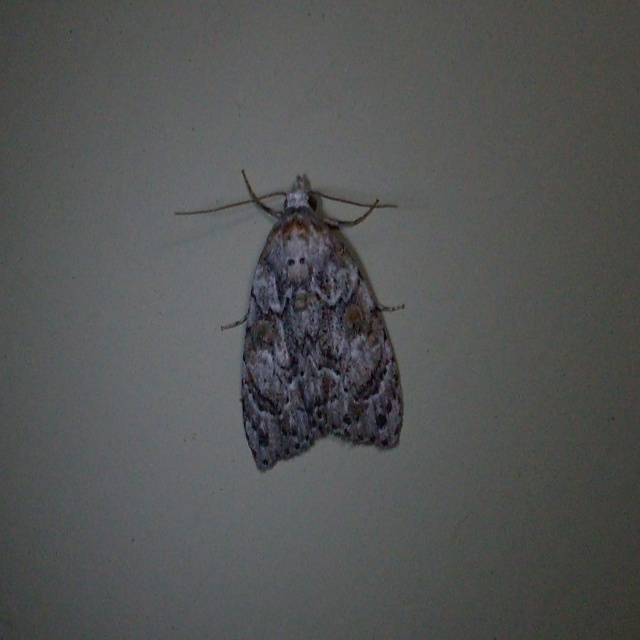Butterfly: (179, 154, 426, 474)
